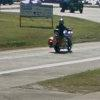Motorcycle: (44, 24, 79, 55)
